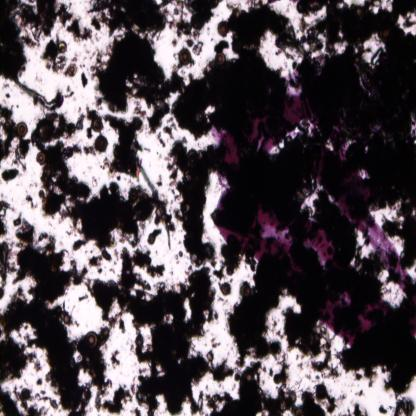Background material: (14, 214, 114, 411), (126, 263, 223, 414), (36, 148, 164, 251), (94, 32, 173, 132), (87, 244, 168, 330), (168, 137, 220, 266), (308, 0, 416, 61), (226, 265, 288, 365), (228, 2, 310, 63), (0, 0, 58, 81), (0, 282, 43, 378), (171, 57, 216, 138), (205, 381, 295, 415), (88, 1, 167, 39), (32, 112, 84, 152), (166, 1, 222, 36), (0, 106, 32, 166), (338, 346, 379, 388), (284, 305, 317, 354), (312, 328, 342, 381), (379, 360, 416, 397), (299, 383, 339, 415), (0, 238, 17, 305), (214, 243, 244, 280), (41, 35, 67, 76), (102, 382, 134, 414), (206, 352, 242, 380), (22, 390, 58, 416), (0, 384, 23, 415), (66, 18, 93, 44), (268, 364, 290, 388), (0, 164, 21, 185), (57, 4, 74, 29), (84, 104, 96, 139), (0, 199, 10, 240), (392, 397, 414, 415), (297, 17, 310, 46), (26, 352, 42, 374), (109, 346, 124, 367), (162, 118, 176, 140), (96, 328, 110, 350), (146, 227, 163, 245), (93, 134, 109, 153), (349, 400, 368, 415), (186, 39, 202, 55), (79, 70, 89, 90), (215, 39, 228, 54), (24, 191, 35, 208), (82, 145, 97, 157), (156, 132, 167, 148), (155, 175, 165, 189), (378, 403, 389, 415), (296, 360, 306, 372), (132, 405, 144, 415), (352, 390, 366, 398), (36, 378, 43, 386)
Cellulose filter fibre: (12, 78, 65, 109)
Diatom: (178, 47, 192, 65), (85, 330, 98, 347), (217, 20, 230, 36), (243, 368, 255, 385), (18, 388, 32, 401), (17, 122, 28, 138), (92, 118, 104, 131), (215, 52, 226, 66), (240, 284, 251, 298), (296, 1, 307, 14), (221, 282, 231, 296), (37, 151, 47, 165), (131, 117, 143, 128), (67, 65, 76, 77), (135, 335, 144, 347), (103, 159, 111, 168), (295, 407, 304, 415)
Microfibre: (136, 159, 172, 249)
Pen: (215, 60, 416, 358)
